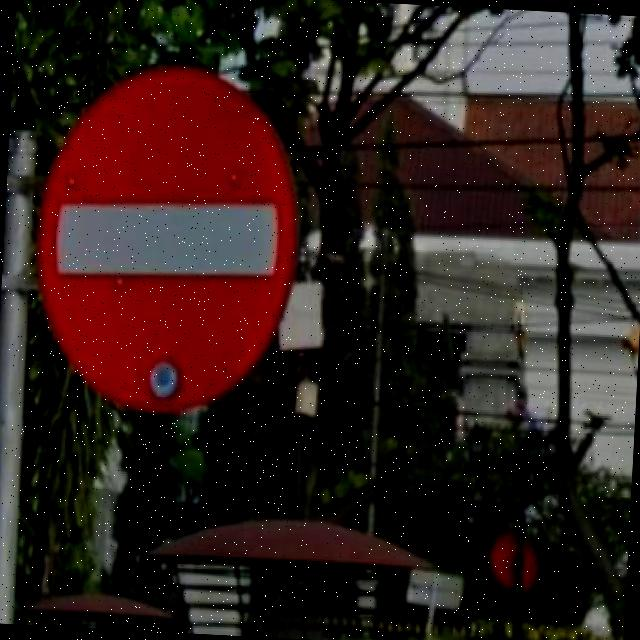Zakaz wjazdu: (35, 69, 304, 422)
